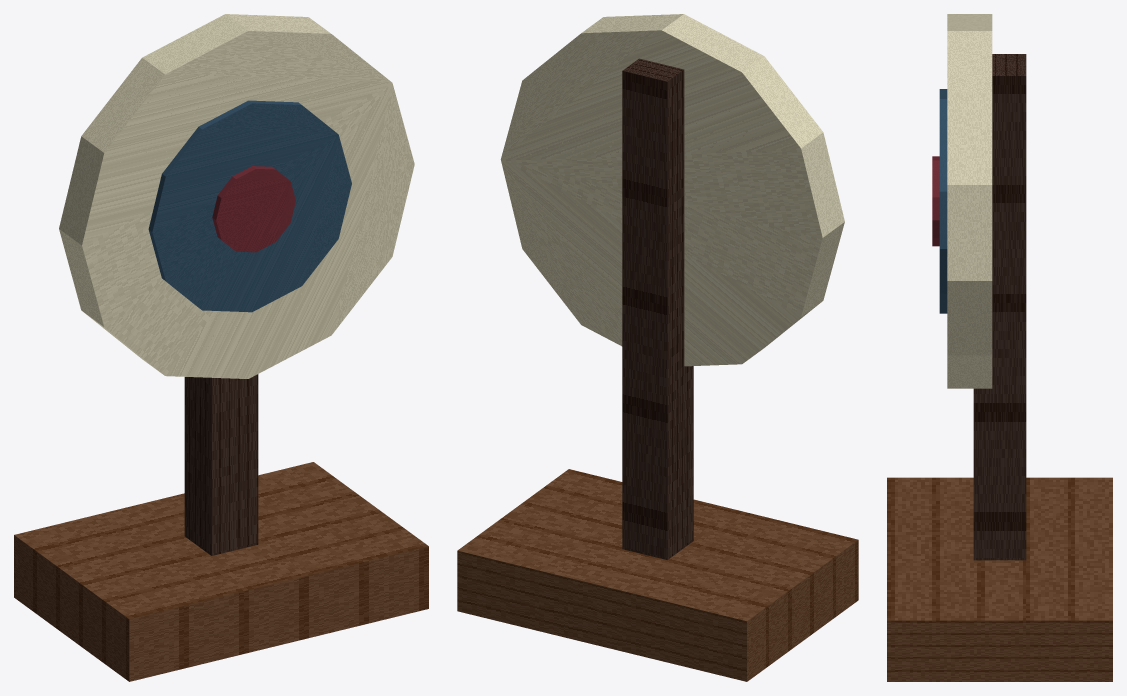
Rendered from training_target_intact.glb.
3 views of the same model, side by side, from view 1: azimuth 30°, elevation 25°; view 2: azimuth 150°, elevation 25°; view 3: azimuth 270°, elevation 25° (orthographic). The views are drawn at different scales.
Parts seen in each view (by area): view 1: target, base, ring, post, bullseye; view 2: target, base, post; view 3: base, post, target, ring, bullseye.
Boxes of the visible parts, left/top/right/bottom form: target: left=59, top=14, right=414, bottom=378; base: left=14, top=462, right=428, bottom=681; ring: left=148, top=100, right=351, bottom=312; post: left=184, top=374, right=258, bottom=555; bullseye: left=212, top=166, right=295, bottom=252; target: left=500, top=14, right=844, bottom=366; base: left=457, top=469, right=858, bottom=681; post: left=622, top=58, right=693, bottom=559; base: left=887, top=477, right=1112, bottom=681; post: left=973, top=54, right=1026, bottom=560; target: left=947, top=14, right=992, bottom=388; ring: left=939, top=89, right=947, bottom=313; bullseye: left=932, top=156, right=939, bottom=246.
Bounding box in the file's own units: 1 × 1.7 × 0.6.
1 material, 1 textured.
